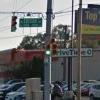Traffic light: (6, 9, 18, 36)
